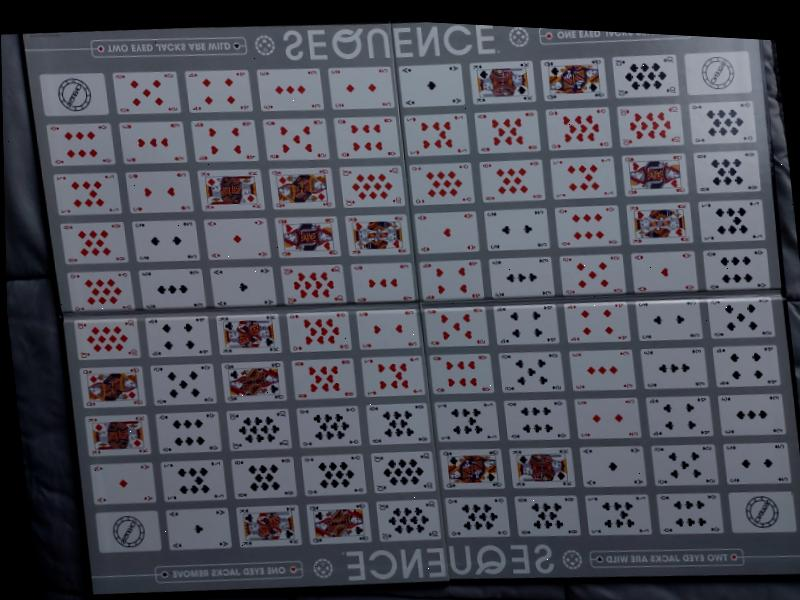Board: (13, 20, 800, 600)
